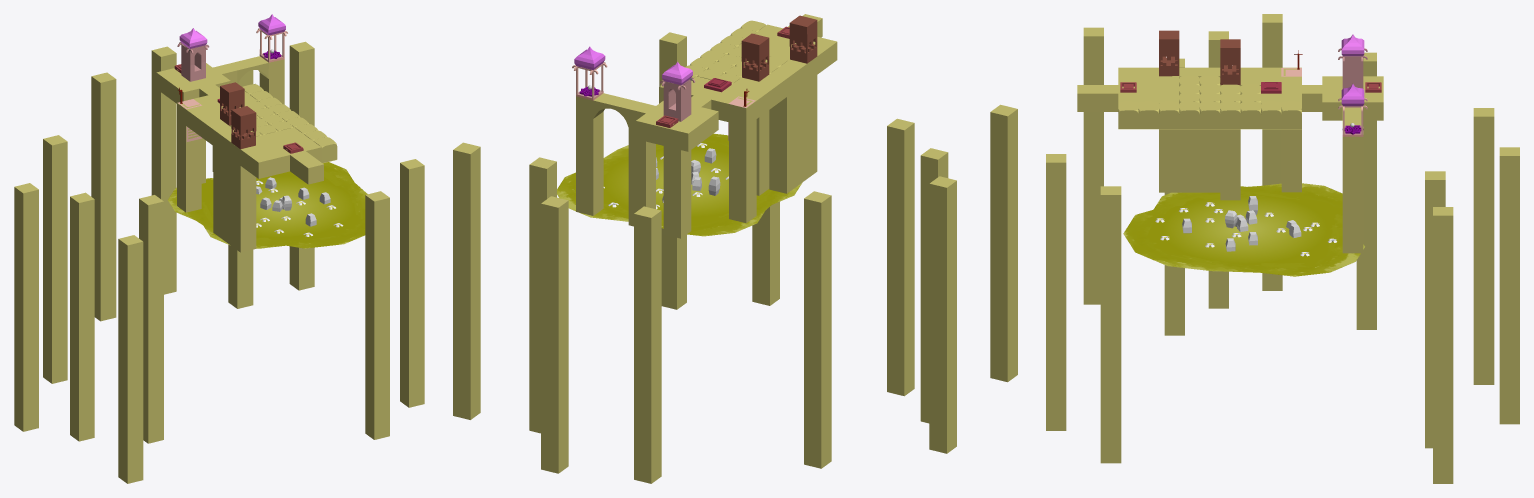
The picture shows the model from 3 angles, left to right: view 1: azimuth 30°, elevation 25°; view 2: azimuth 150°, elevation 25°; view 3: azimuth 270°, elevation 25°; orthographic projection. The views are drawn at different scales.
Visible parts, largest first — view 1: main map_3, main map_1, floor, map_1, main map_2, flower_2, the end_1; view 2: main map_3, main map_1, floor, map_1, main map_2, the end_1, flower_2; view 3: main map_3, main map_1, floor, map_1, flower_2, main map_2, the end_1, flower_1.
Boxes of the visible parts, <box> form: main map_3: <box>14,41,424,483</box>; main map_1: <box>156,56,337,252</box>; floor: <box>168,162,367,248</box>; map_1: <box>220,82,256,149</box>; main map_2: <box>177,28,209,81</box>; flower_2: <box>256,177,330,226</box>; the end_1: <box>256,14,287,62</box>; main map_3: <box>453,32,1017,483</box>; main map_1: <box>576,14,837,238</box>; floor: <box>557,133,802,236</box>; map_1: <box>741,15,817,81</box>; main map_2: <box>660,61,695,121</box>; the end_1: <box>572,46,607,100</box>; flower_2: <box>656,148,720,202</box>; main map_3: <box>1046,14,1519,483</box>; main map_1: <box>1077,67,1383,253</box>; floor: <box>1123,183,1364,276</box>; map_1: <box>1159,30,1240,84</box>; flower_2: <box>1182,196,1301,251</box>; main map_2: <box>1338,34,1367,88</box>; the end_1: <box>1338,84,1367,136</box>; flower_1: <box>1155,202,1336,256</box>.
Bounding box in the file's own units: 46.73 × 39.34 × 46.43.
